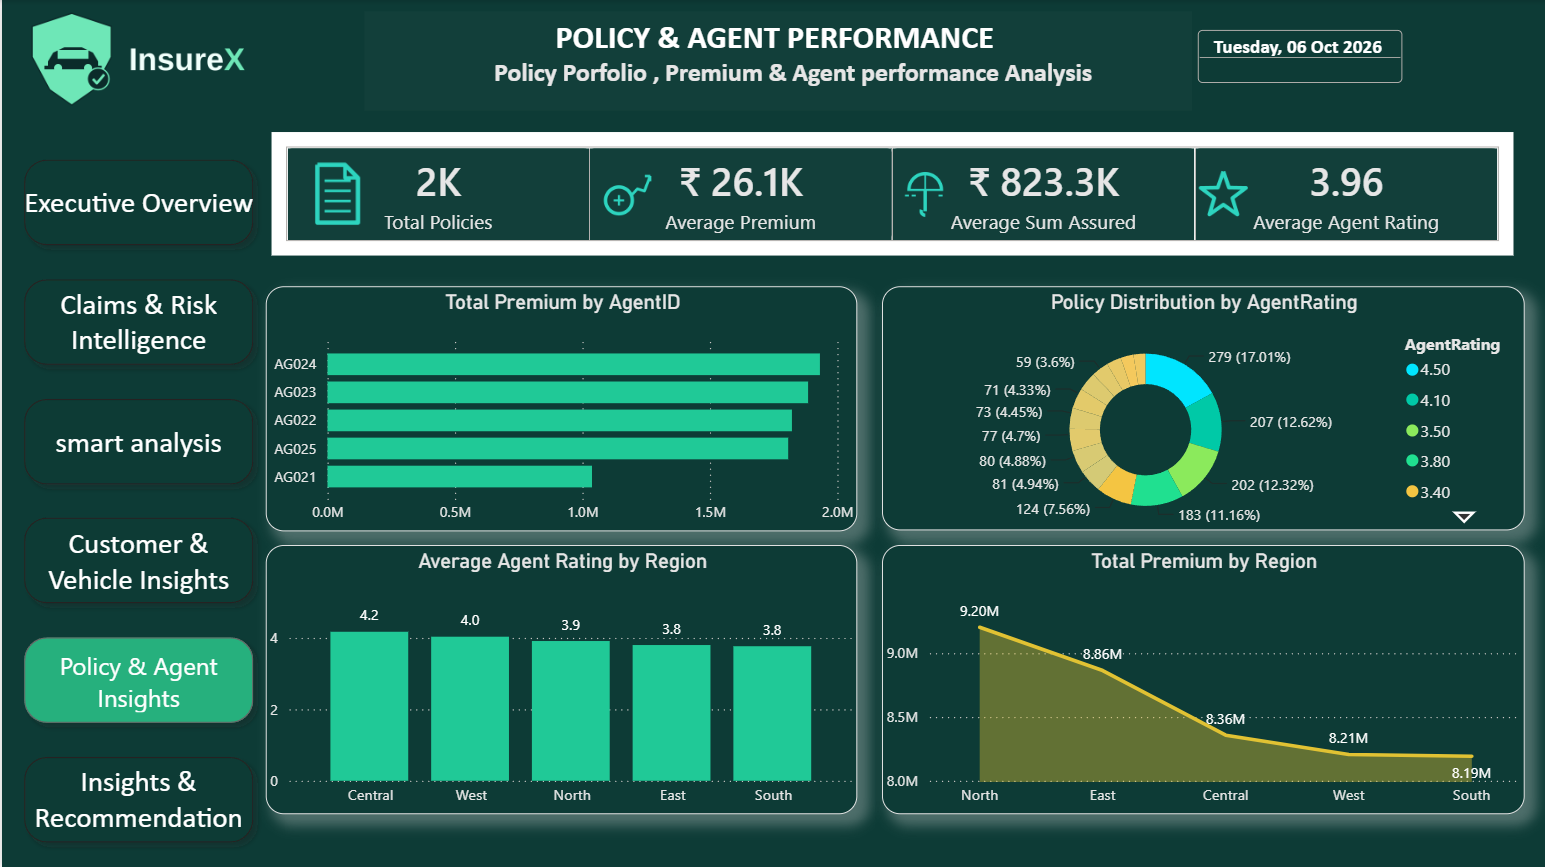

This screenshot's page, from the dashboard's own definition file:
{"tool":"powerbi","page":{"name":"Policy & Agent Insights","canvas":[1280,720],"ordinal":4},"visuals":[{"type":"cardVisual","fields":{"Data":["Policies.Total Policies","Policies.Average Premium","Policies.Average Sum Assured","Agents.Average Agent Rating"]},"box":[218.2,104.3,1042.9,112.5],"z":0},{"type":"clusteredBarChart","fields":{"Category":["Agents.AgentID"],"Y":["Policies.Total Premium"]},"box":[218.6,237.2,490.7,203.5],"z":1000},{"type":"clusteredColumnChart","fields":{"Y":["Agents.Average Agent Rating"],"Category":["Agents.Region"]},"box":[218.6,452.3,490.7,223.3],"z":2000},{"type":"donutChart","title":"Policy Distribution by AgentRating","fields":{"Category":["Agents.AgentRating"],"Y":["Policies.Total Policies"]},"box":[729.1,237.2,532.6,202.3],"z":3000},{"type":"areaChart","fields":{"Category":["Customers.Region"],"Y":["Policies.Total Premium"]},"box":[729.1,452.3,532.6,223.3],"z":4000},{"type":"textbox","box":[300.5,9.6,686.1,82.3],"z":5000},{"type":"pageNavigator","box":[9.6,123.5,208.6,587.3],"z":6000},{"type":"image","box":[0,0,348.5,94.7],"z":7000},{"type":"cardVisual","fields":{"Rows":["Agents.Today's Date"]},"box":[986.6,0,179.8,94.7],"z":8000},{"type":"image","box":[247,130.4,63.1,60.4],"z":9000},{"type":"image","box":[492.6,134.5,48,50.8],"z":10000},{"type":"image","box":[728.6,138.6,74.1,46.7],"z":11000},{"type":"image","box":[986.6,131.7,52.1,59],"z":12000}]}

Visuals, with their boxes in screenshot pixels (x1, y1, x2, y2), scaled from the page's 1280x720 canvas onto the 1545x867 screenshot:
cardVisual - Policies.Total Policies x Policies.Average Premium: BBox(263, 126, 1522, 261)
clusteredBarChart - Agents.AgentID x Policies.Total Premium: BBox(264, 286, 856, 531)
clusteredColumnChart - Agents.Average Agent Rating x Agents.Region: BBox(264, 545, 856, 814)
"Policy Distribution by AgentRating" donutChart: BBox(880, 286, 1523, 529)
areaChart - Customers.Region x Policies.Total Premium: BBox(880, 545, 1523, 814)
textbox: BBox(363, 12, 1191, 111)
pageNavigator: BBox(12, 149, 263, 856)
image: BBox(0, 0, 421, 114)
cardVisual - Agents.Today's Date: BBox(1191, 0, 1408, 114)
image: BBox(298, 157, 374, 230)
image: BBox(595, 162, 653, 223)
image: BBox(879, 167, 969, 223)
image: BBox(1191, 159, 1254, 230)
